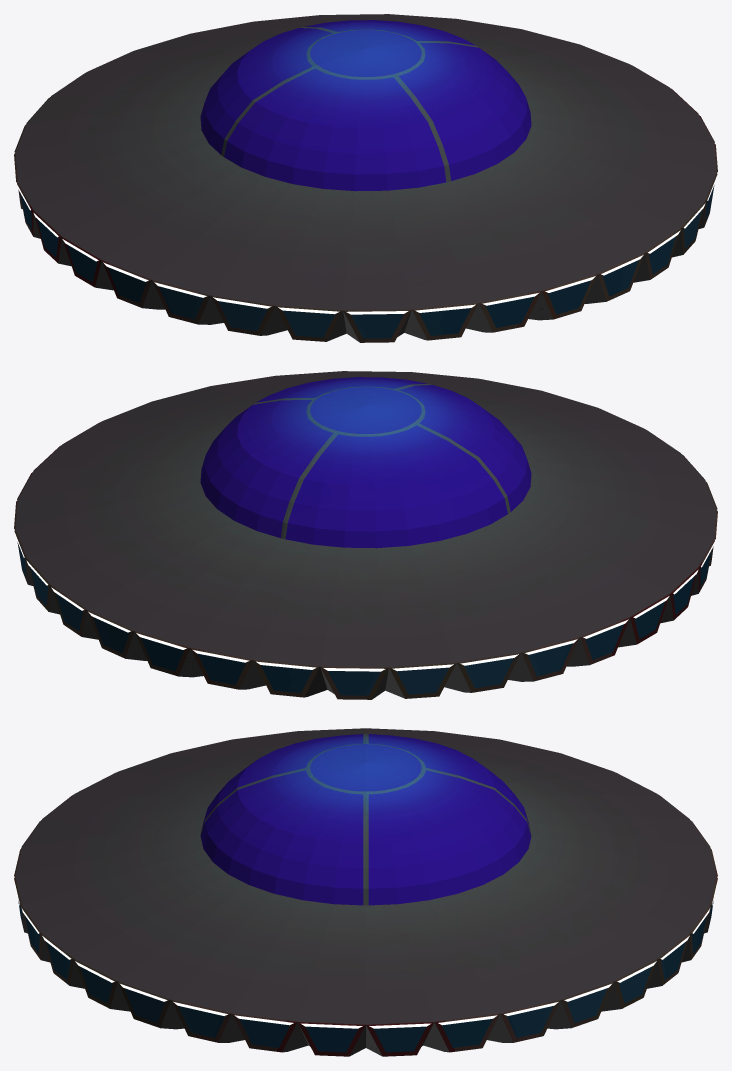
The model's file is soucoupe.gltf.
The picture shows the model from 3 angles, top to bottom: view 1: azimuth 30°, elevation 25°; view 2: azimuth 150°, elevation 25°; view 3: azimuth 270°, elevation 25°; orthographic projection.
Visible parts, largest first — view 1: Circle; view 2: Circle; view 3: Circle.
Boxes of the visible parts, x1,y1,x2,y2 form: Circle: [14, 14, 717, 342]; Circle: [14, 371, 717, 699]; Circle: [14, 728, 717, 1056].
Size of the model in its own units: 9.35 by 3.22 by 9.35.
Materials: 6 (5 with a texture image).
